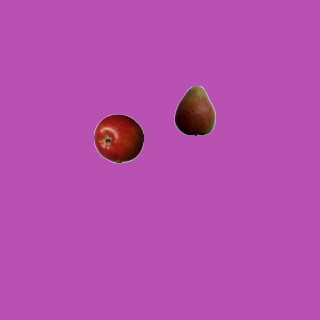Apple Braeburn: (93, 113, 143, 163)
Pear Forelle: (169, 85, 219, 135)
